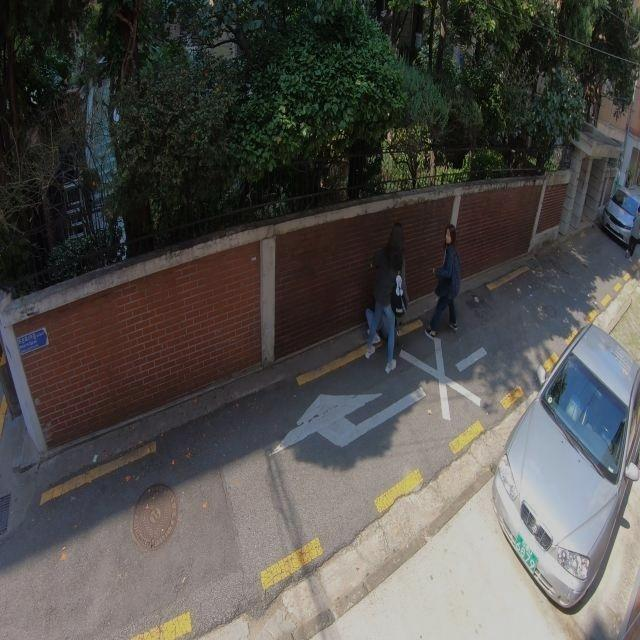fight: (360, 217, 413, 377)
non-fight: (425, 223, 464, 336)
